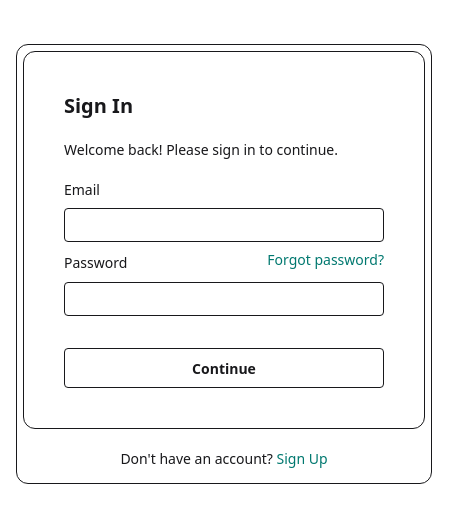
Scenario: Sign In › displays validation errors when form is submitted with empty fields
The width and height of the screenshot is (449, 529).
Click the button "Continue" at (224, 368), box top-left (64, 348), bottom-right (384, 388)
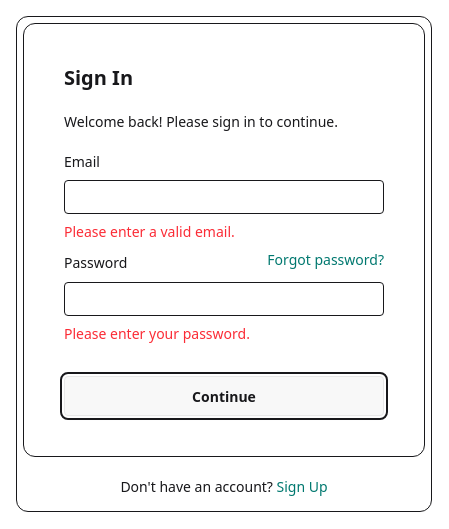
Expected: the text "Please enter a valid email." is shown, top-left (64, 222), bottom-right (235, 241)
Expected: the text "Please enter your password." is shown, top-left (64, 324), bottom-right (250, 343)
